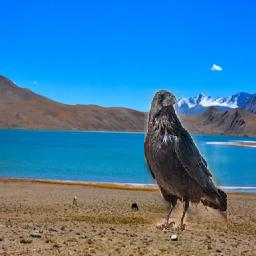Crow: (145, 89, 228, 231)
